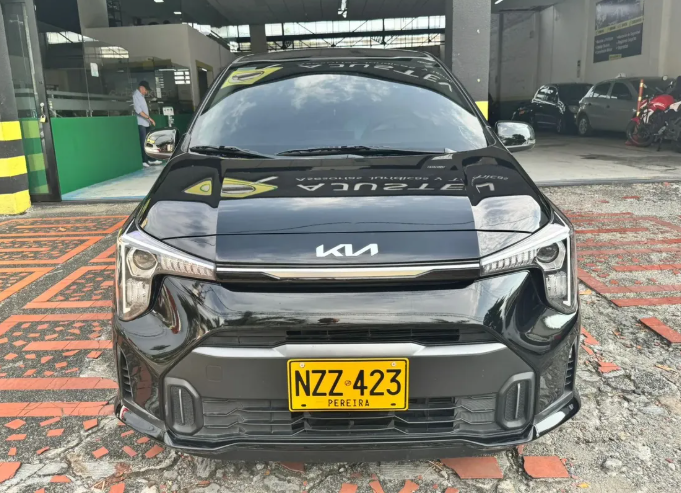placa: (288, 360, 408, 411)
